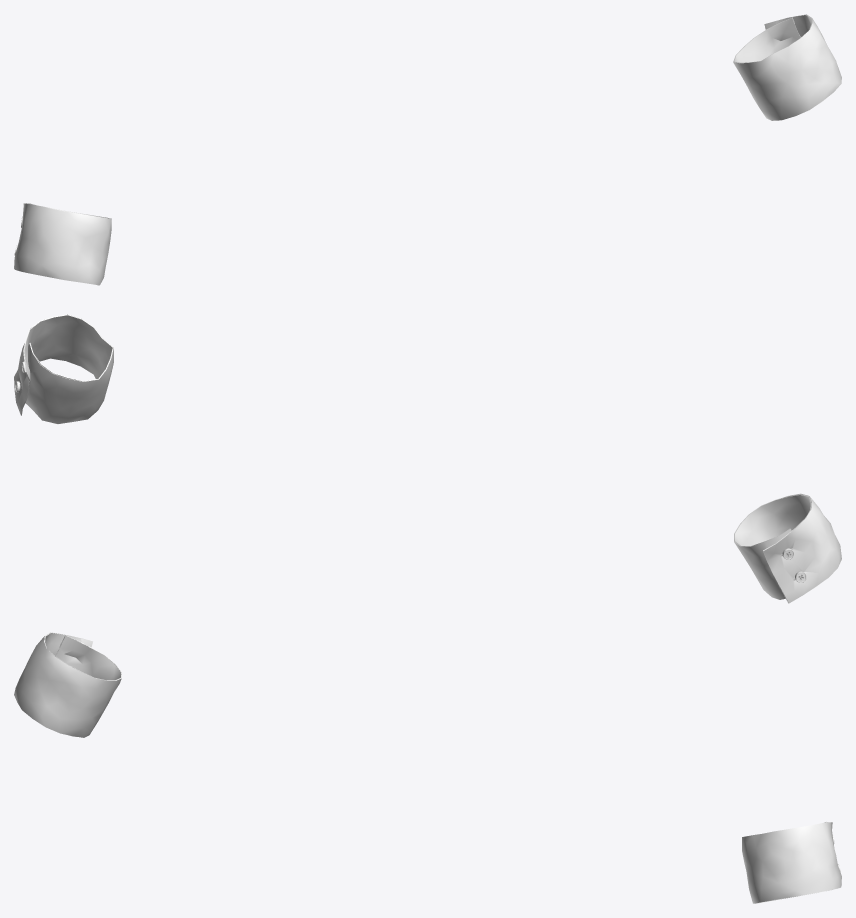
Rendered from two-buttons-cuff.glb.
3 renders of one model, top to bottom at view 1: azimuth 30°, elevation 25°; view 2: azimuth 150°, elevation 25°; view 3: azimuth 330°, elevation 25°, orthographic.
Parts seen in each view (by area): view 1: right_upper, left_upper, left_inner; view 2: right_upper, left_upper, left_inner, right_inner; view 3: left_upper, right_upper, right_inner.
Boxes of the visible parts, x1,y1,x2,y2 form: right_upper: (14, 203, 111, 285); left_upper: (733, 14, 841, 120); left_inner: (733, 15, 827, 103); right_upper: (734, 493, 841, 603); left_upper: (14, 314, 113, 423); left_inner: (21, 315, 112, 415); right_inner: (734, 494, 820, 603); left_upper: (742, 821, 841, 903); right_upper: (14, 632, 121, 737); right_inner: (44, 632, 121, 736).
Bounding box in the file's own units: 0.8335 × 0.087 × 0.1017.
Materials: 3 (3 with a texture image).
